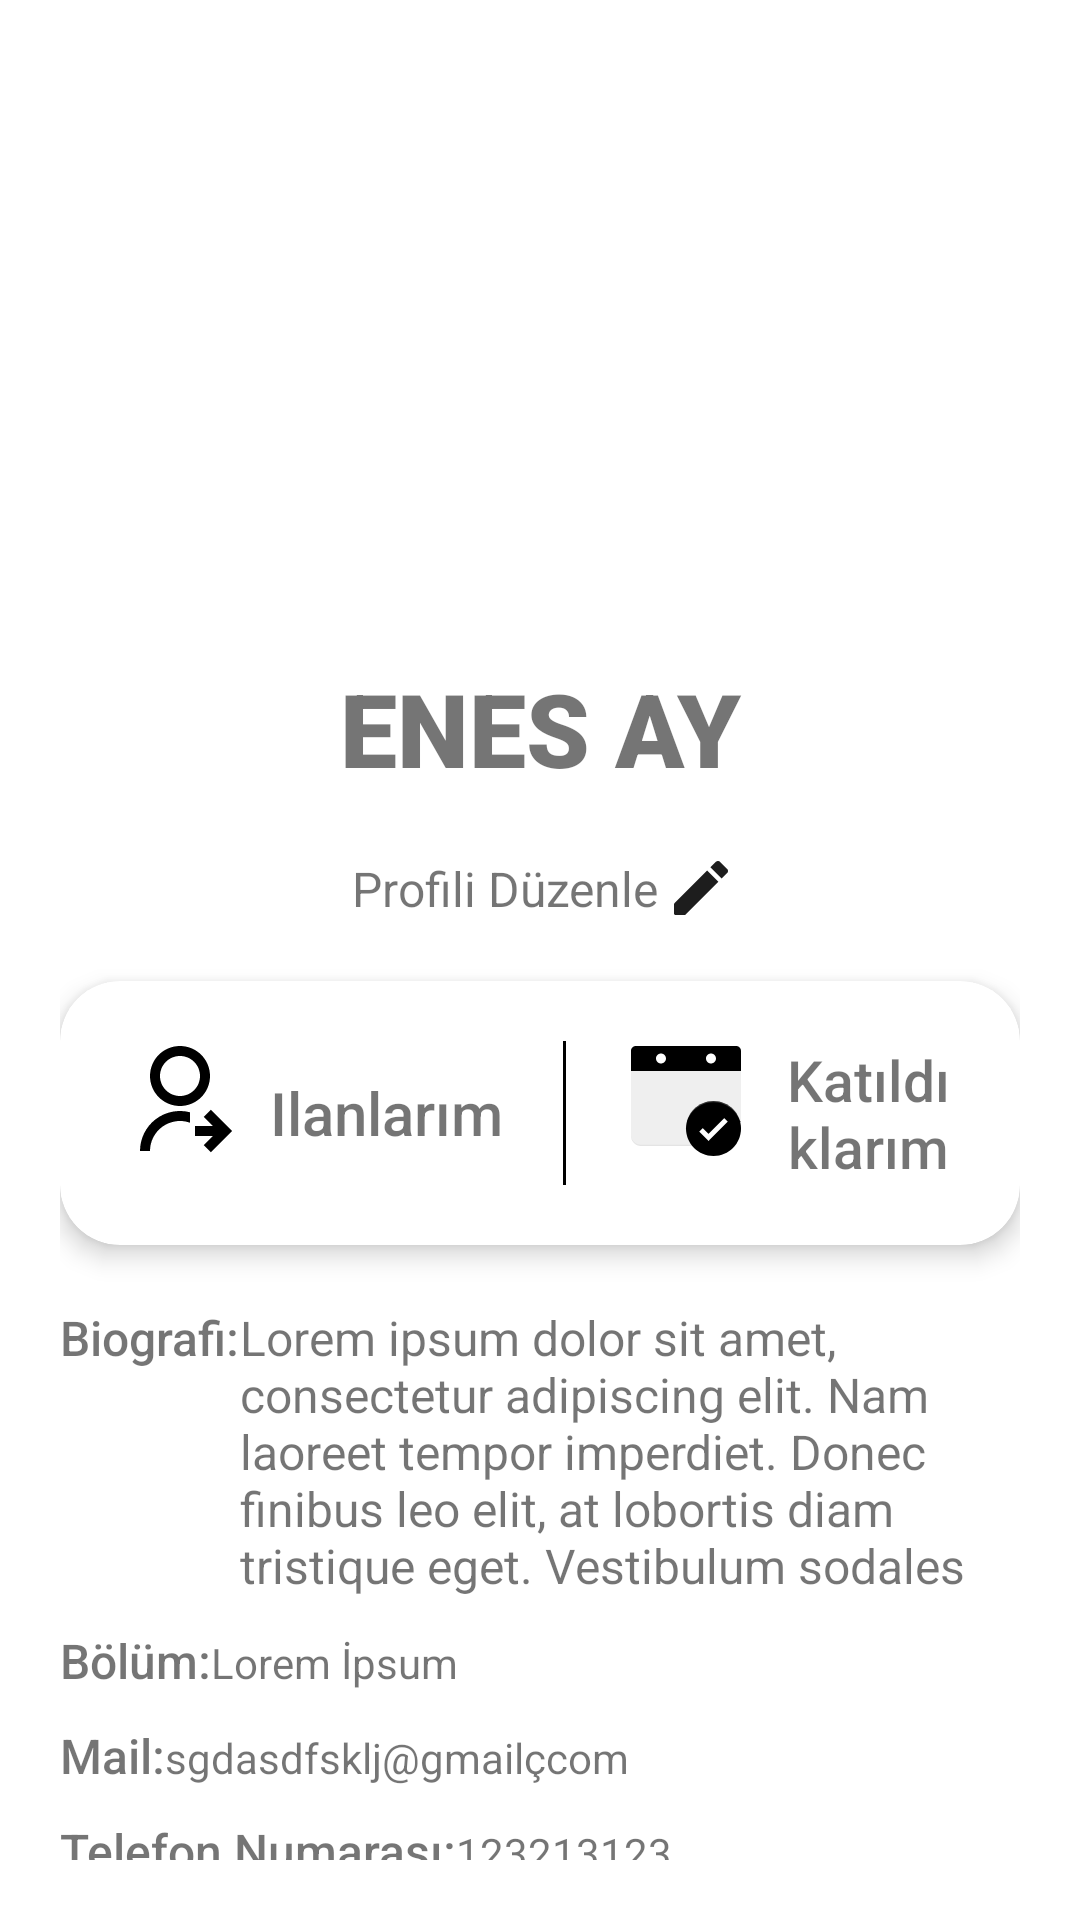

Named icons in this screenshot (1080*1920) and their centers, [x,y]:
attend: [686,1101]
shared: [186,1099]
